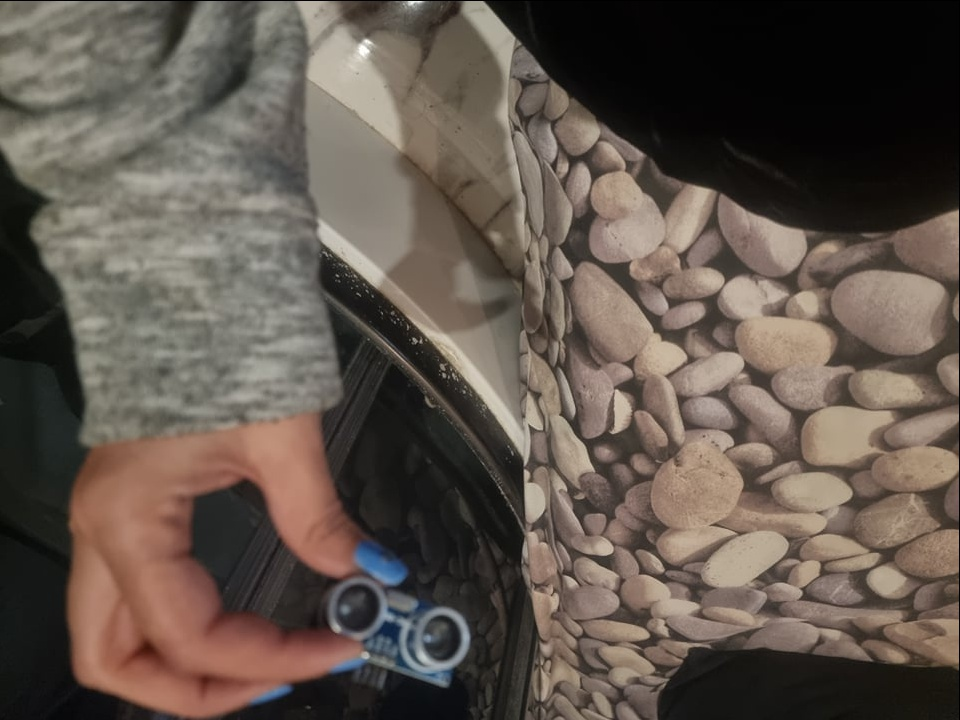SENSOR: (311, 575, 478, 675)
